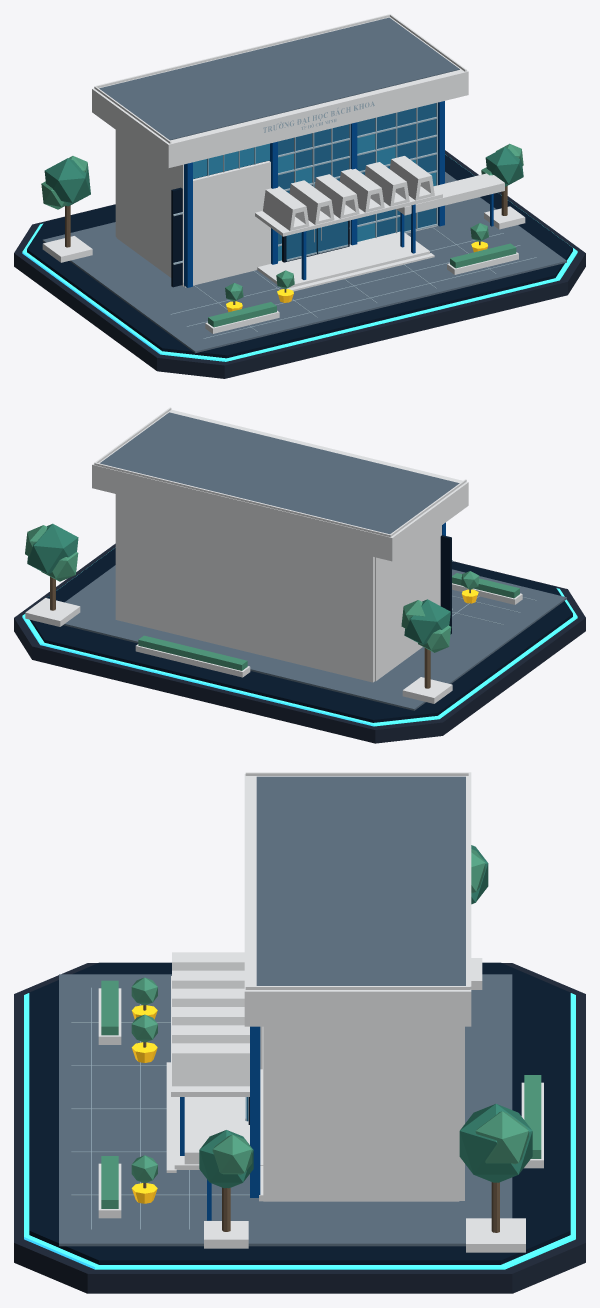
File: hcmut_hq.glb
3 views of the same model, one above another, from view 1: azimuth 30°, elevation 25°; view 2: azimuth 150°, elevation 25°; view 3: azimuth 270°, elevation 25° (orthographic). The views are drawn at different scales.
Visible parts, largest first — view 1: HCMUT V2.1 | Porcelain | original palette, HCMUT V2.1 | Courtyard slate, HCMUT V2.1 | Navy | original palette, HCMUT V2.1 | Platform | original palette, HCMUT V2.1 | Blue glazing opaque, HCMUT V2.1 | Mullion silver, HCMUT V2.1 | BK blue | original palette, HCMUT V2.1 | Canopy mint, HCMUT V2.1 | Blue glazing light, HCMUT V2.1 | Cyan edge, HCMUT V2.1 | Canopy teal, HCMUT V2.1 | Warm yellow (+1 smaller); view 2: HCMUT V2.1 | Porcelain | original palette, HCMUT V2.1 | Courtyard slate, HCMUT V2.1 | Navy | original palette, HCMUT V2.1 | Platform | original palette, HCMUT V2.1 | Canopy mint, HCMUT V2.1 | Canopy teal, HCMUT V2.1 | Cyan edge, HCMUT V2.1 | Tree trunk; view 3: HCMUT V2.1 | Courtyard slate, HCMUT V2.1 | Porcelain | original palette, HCMUT V2.1 | Navy | original palette, HCMUT V2.1 | Platform | original palette, HCMUT V2.1 | Canopy mint, HCMUT V2.1 | Cyan edge, HCMUT V2.1 | Canopy teal, HCMUT V2.1 | BK blue | original palette, HCMUT V2.1 | Mullion silver, HCMUT V2.1 | Warm yellow, HCMUT V2.1 | Tree trunk.
Part boxes in pixels (box(x1,y1,x2,y2)): HCMUT V2.1 | Porcelain | original palette: box(42, 14, 525, 333); HCMUT V2.1 | Courtyard slate: box(42, 17, 566, 353); HCMUT V2.1 | Navy | original palette: box(27, 154, 572, 358); HCMUT V2.1 | Platform | original palette: box(14, 150, 585, 378); HCMUT V2.1 | Blue glazing opaque: box(278, 103, 436, 260); HCMUT V2.1 | Mullion silver: box(170, 101, 536, 338); HCMUT V2.1 | BK blue | original palette: box(184, 101, 493, 287); HCMUT V2.1 | Canopy mint: box(41, 143, 523, 327); HCMUT V2.1 | Blue glazing light: box(193, 134, 436, 261); HCMUT V2.1 | Cyan edge: box(22, 154, 577, 361); HCMUT V2.1 | Canopy teal: box(44, 147, 523, 206); HCMUT V2.1 | Warm yellow: box(226, 241, 487, 312); HCMUT V2.1 | Porcelain | original palette: box(25, 407, 522, 703); HCMUT V2.1 | Courtyard slate: box(63, 412, 566, 710); HCMUT V2.1 | Navy | original palette: box(30, 535, 572, 722); HCMUT V2.1 | Platform | original palette: box(14, 543, 585, 743); HCMUT V2.1 | Canopy mint: box(25, 525, 519, 670); HCMUT V2.1 | Canopy teal: box(27, 523, 450, 644); HCMUT V2.1 | Cyan edge: box(22, 550, 577, 726); HCMUT V2.1 | Tree trunk: box(50, 576, 470, 688); HCMUT V2.1 | Courtyard slate: box(59, 776, 512, 1246); HCMUT V2.1 | Porcelain | original palette: box(98, 772, 543, 1252); HCMUT V2.1 | Navy | original palette: box(29, 962, 570, 1264); HCMUT V2.1 | Platform | original palette: box(14, 963, 585, 1293); HCMUT V2.1 | Canopy mint: box(101, 849, 541, 1208); HCMUT V2.1 | Cyan edge: box(24, 993, 575, 1269); HCMUT V2.1 | Canopy teal: box(199, 845, 532, 1188); HCMUT V2.1 | BK blue | original palette: box(180, 1026, 260, 1220); HCMUT V2.1 | Mullion silver: box(71, 987, 249, 1229); HCMUT V2.1 | Warm yellow: box(131, 1005, 157, 1203); HCMUT V2.1 | Tree trunk: box(143, 1005, 499, 1232).
Size of the model in its own units: 18 by 6.99 by 14.
